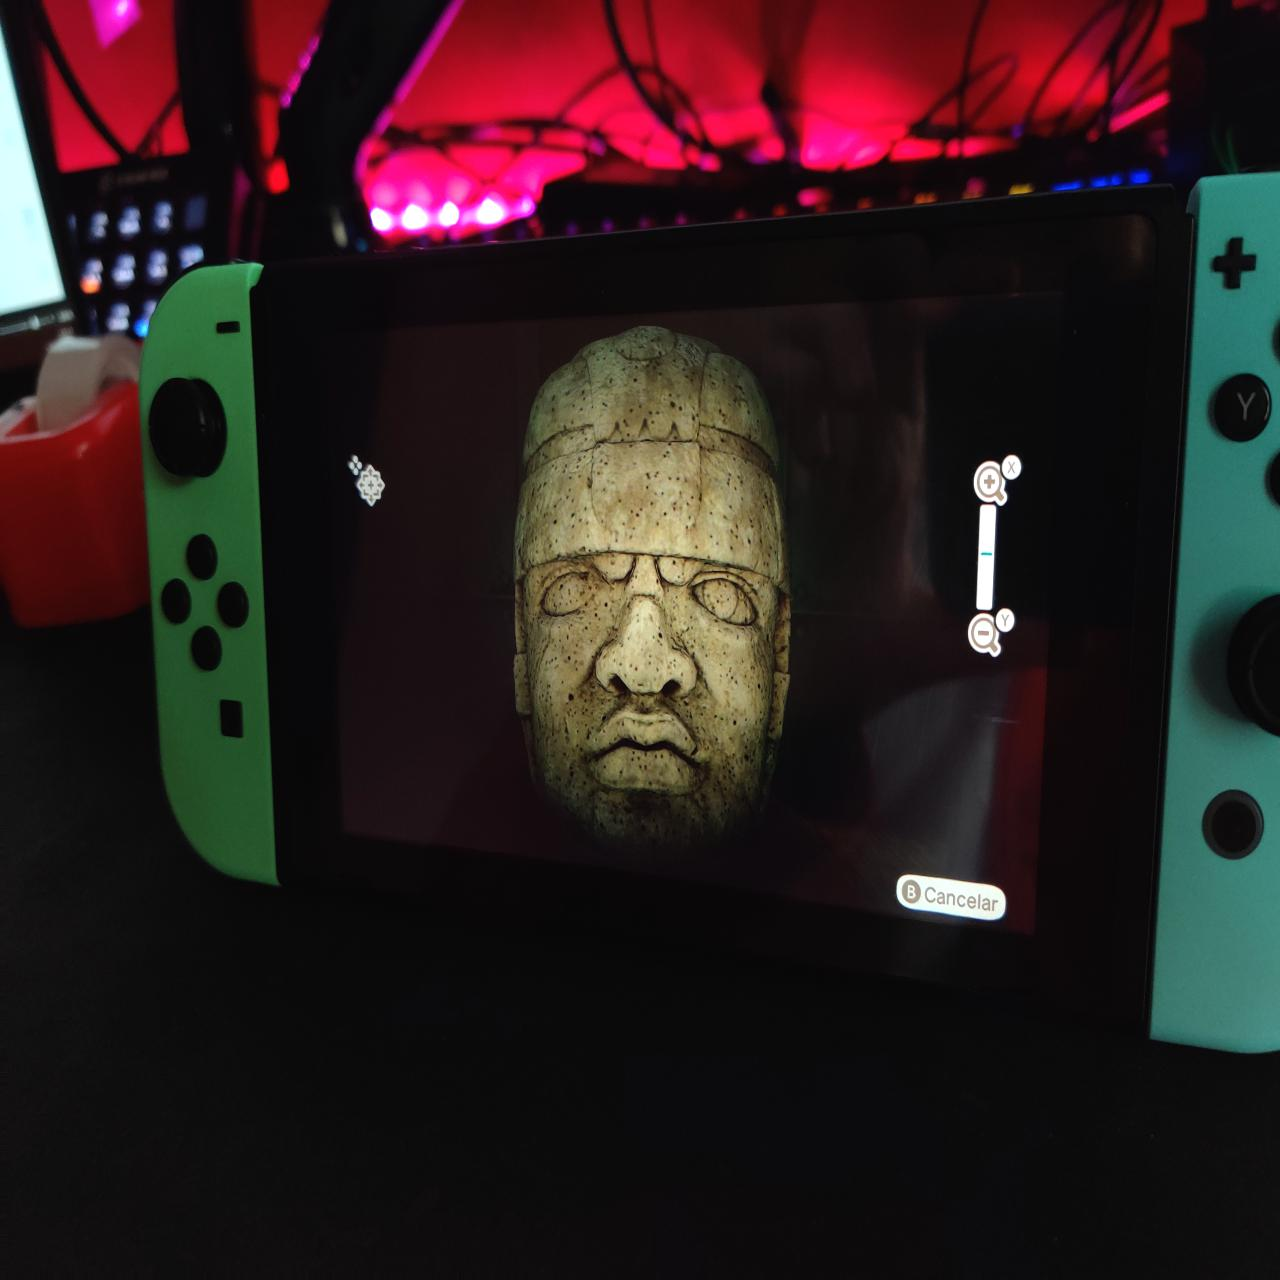OlmecaHead: (511, 321, 800, 856)
